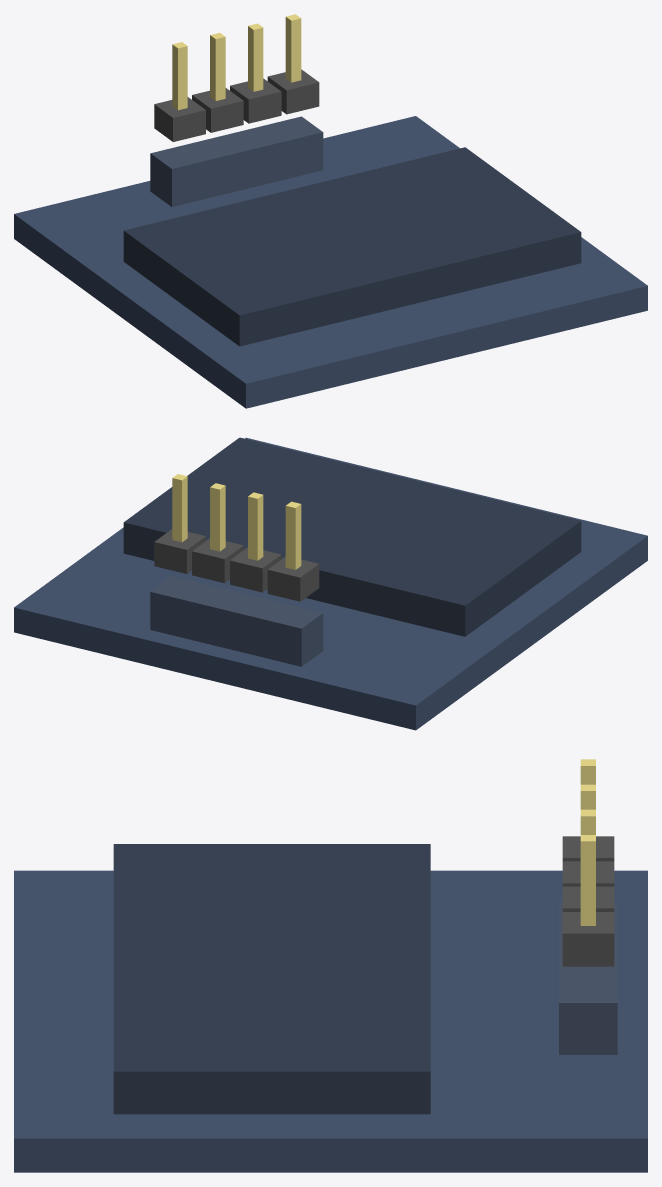
File: lcd2004.glb
3 renders of one model, top to bottom at view 1: azimuth 30°, elevation 25°; view 2: azimuth 150°, elevation 25°; view 3: azimuth 270°, elevation 25°, orthographic. The views are drawn at different scales.
Visible parts, largest first — view 1: lcd-2004-i2c_mesh; view 2: lcd-2004-i2c_mesh; view 3: lcd-2004-i2c_mesh.
Boxes of the visible parts, bbox=[...] form: lcd-2004-i2c_mesh: bbox=[14, 14, 647, 408]; lcd-2004-i2c_mesh: bbox=[14, 437, 647, 730]; lcd-2004-i2c_mesh: bbox=[14, 759, 647, 1172].
Size of the model in its own units: 27 by 11.2 by 27.
